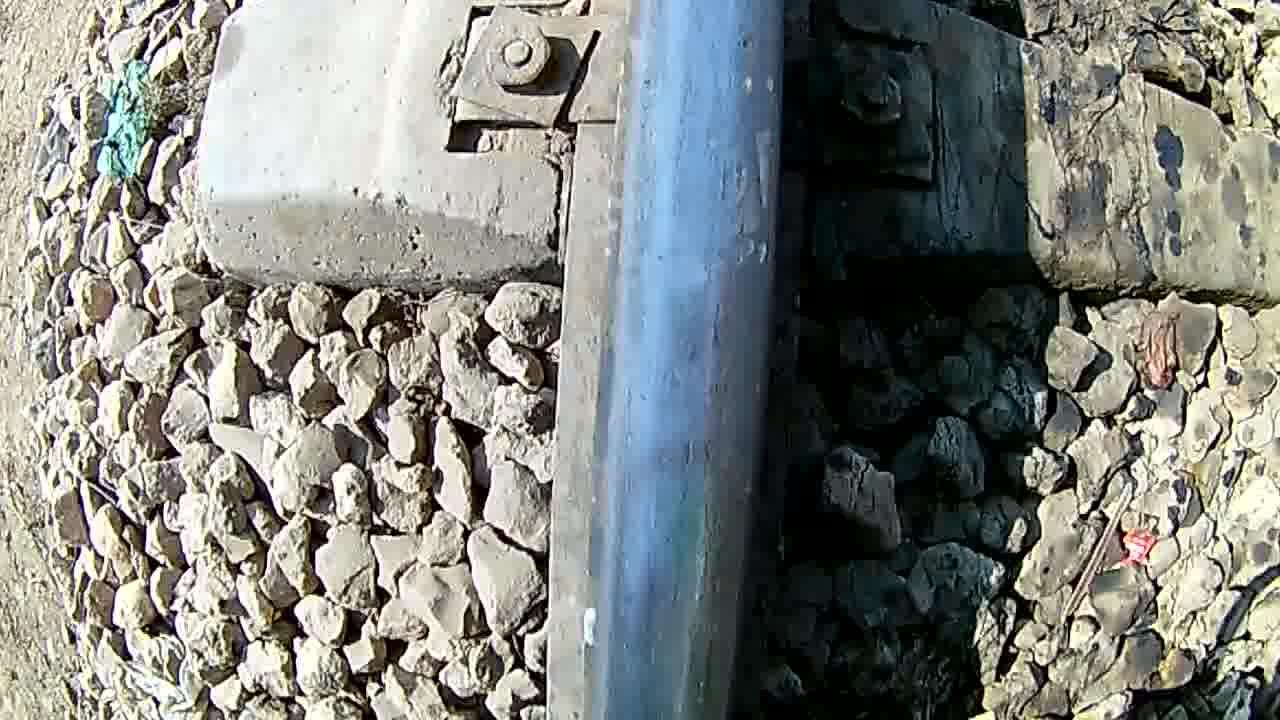crack: (628, 0, 786, 720)
